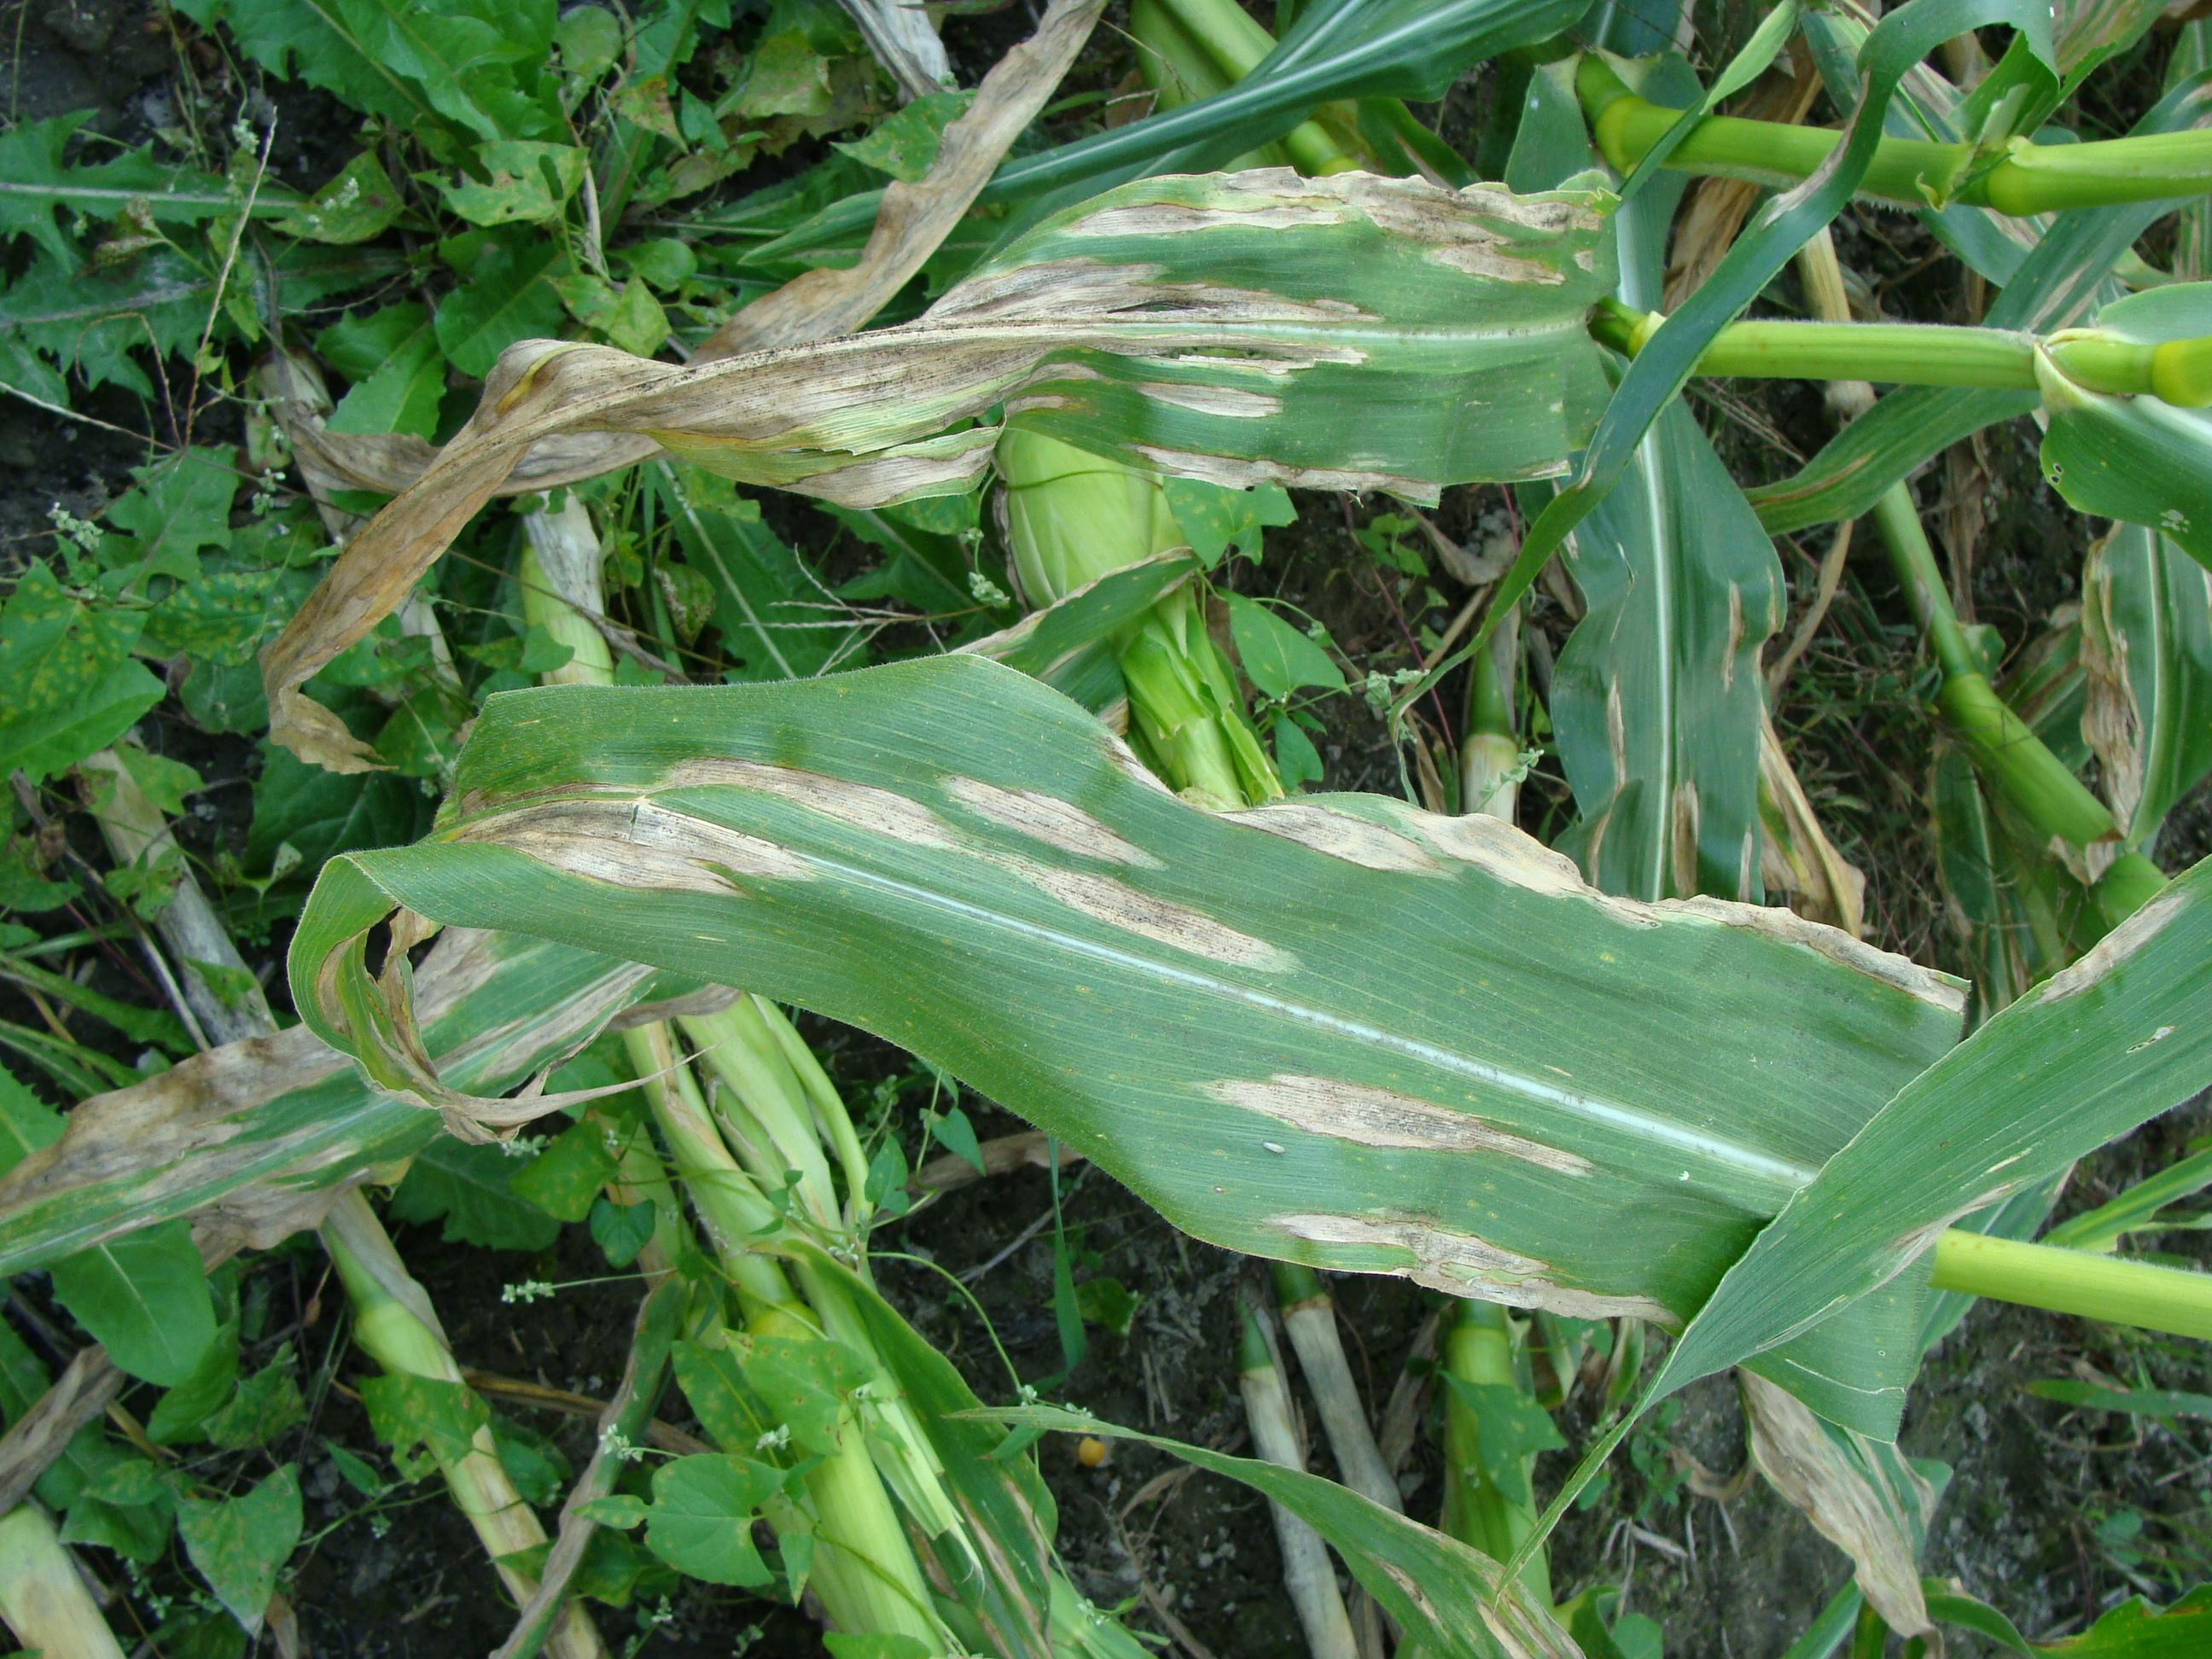Corn leaf blight: (366, 467, 2212, 1032), (251, 75, 2212, 563), (24, 680, 921, 958), (2066, 289, 2212, 735)
